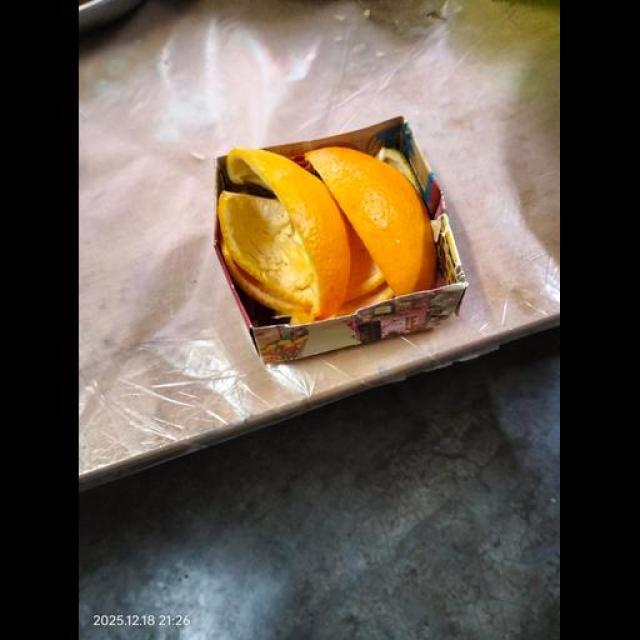organic: (211, 125, 503, 421)
